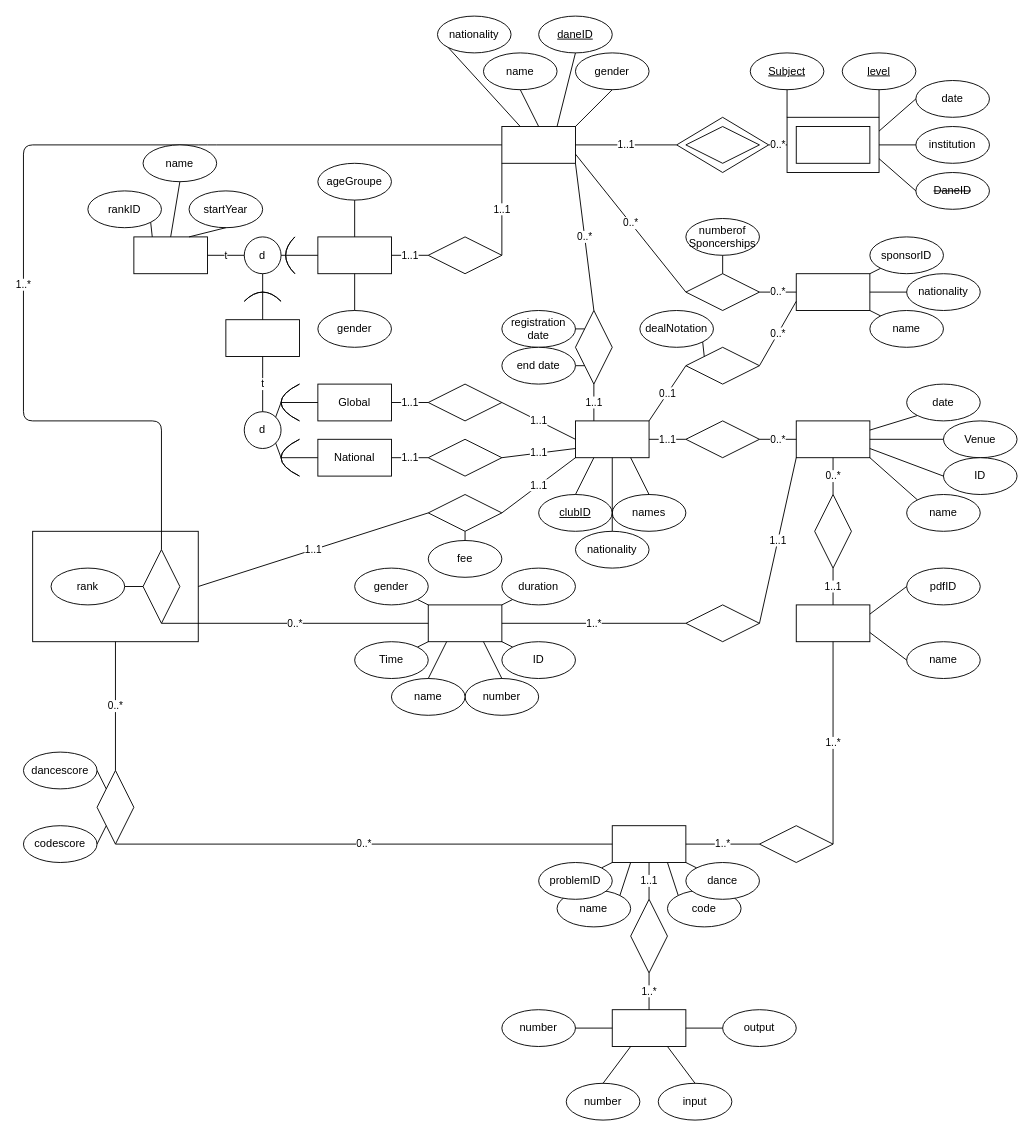
This 1033x1136 diagram has some shape labels left out. The shapes that lost their labels are listed below. From the top down, each one's centre as x and y in pixels, then its label:
At (x=538, y=144): "Danes".
At (x=722, y=144): "has".
At (x=832, y=144): "Degree".
At (x=170, y=255): "Ranking".
At (x=354, y=255): "IndividualRank".
At (x=832, y=291): "Sponsor".
At (x=262, y=337): "ClubRank".
At (x=612, y=439): "Clubs".
At (x=832, y=439): "Turnaments".
At (x=464, y=623): "Leauge".
At (x=832, y=623): "PDF employees".
At (x=648, y=843): "Problems".
At (x=648, y=1027): "TestCase".
